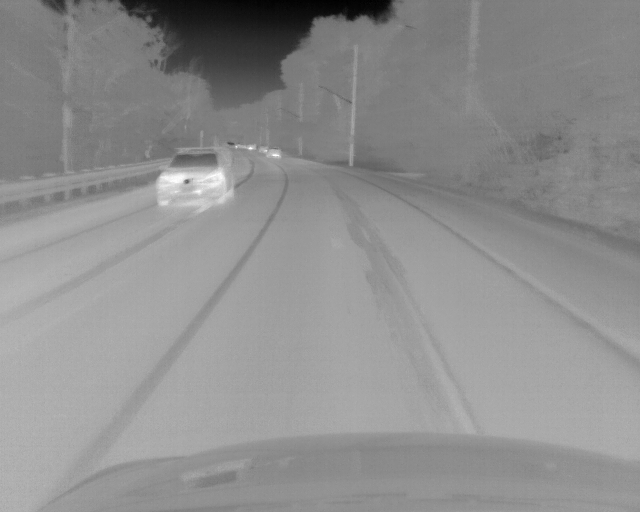car: (154, 146, 236, 209), (266, 146, 280, 160), (258, 144, 266, 154), (246, 144, 256, 151)
